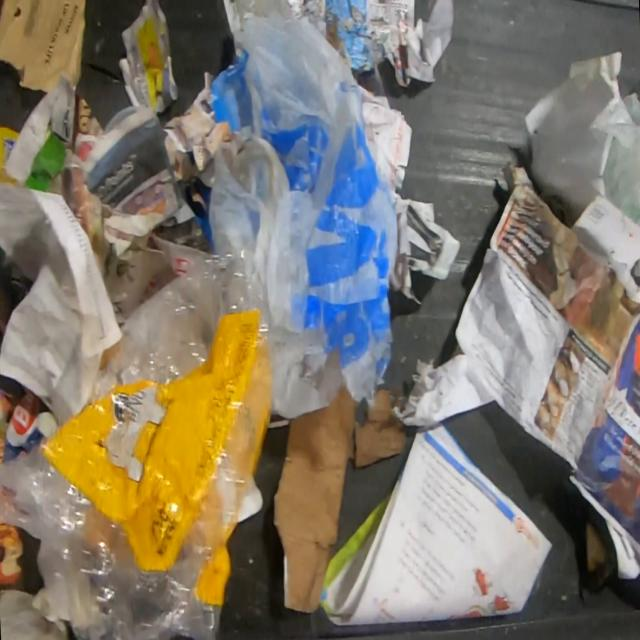cardboard: (272, 384, 407, 615), (569, 193, 640, 306), (2, 386, 56, 461)
soft_plastic: (0, 239, 278, 640), (203, 13, 400, 419), (554, 89, 640, 225)
